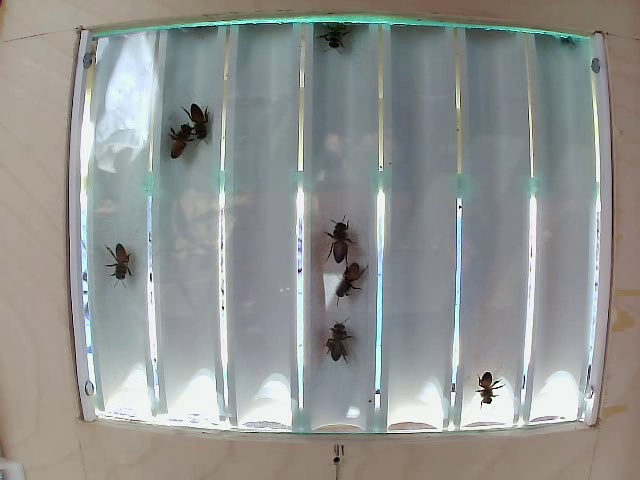bee: (99, 223, 144, 287), (315, 211, 365, 267), (186, 93, 221, 152), (323, 253, 361, 307), (317, 318, 358, 365), (168, 113, 205, 164), (318, 14, 352, 59)
